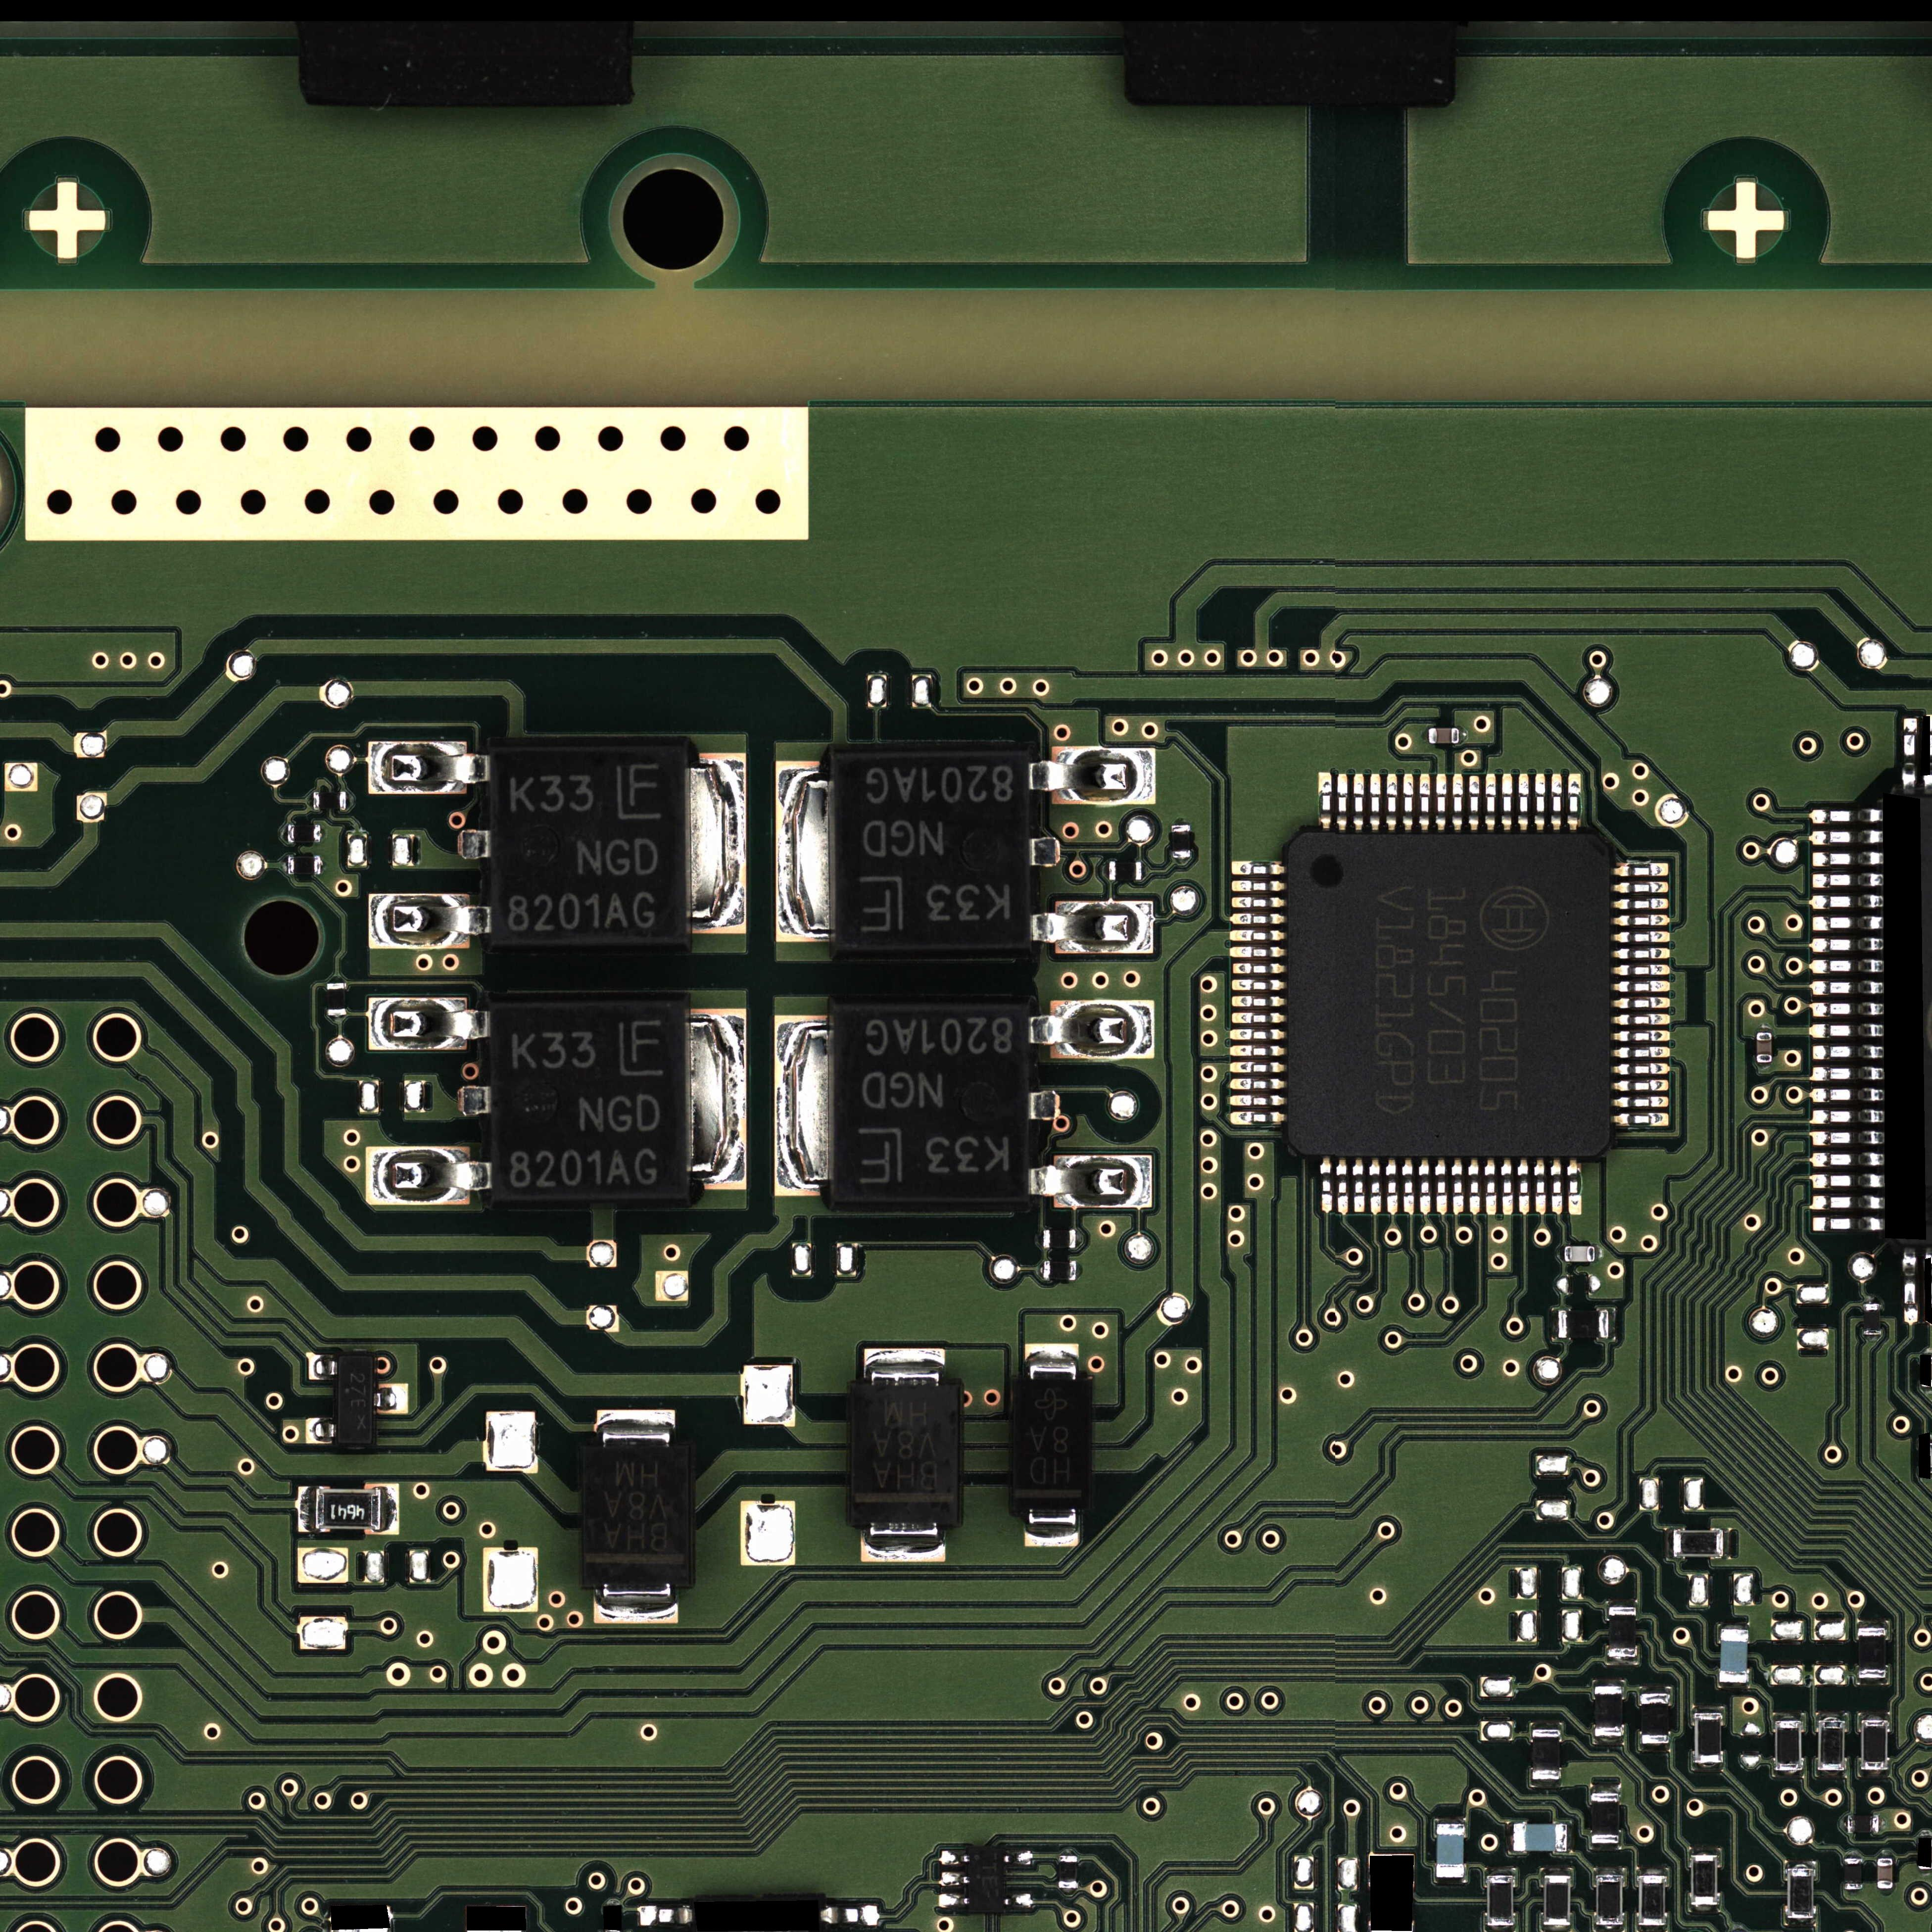Package: (1286, 833, 1612, 1157), (492, 747, 686, 943), (833, 1005, 1026, 1201), (492, 1007, 686, 1200), (833, 755, 1030, 947), (847, 1382, 962, 1523), (579, 1444, 692, 1585), (1012, 1378, 1090, 1509), (338, 1353, 373, 1447), (315, 1490, 380, 1530), (968, 1847, 1005, 1913), (1514, 1824, 1568, 1852), (1720, 1629, 1748, 1683), (1640, 1693, 1668, 1744), (1437, 1824, 1463, 1877), (1532, 1730, 1560, 1780), (1591, 1794, 1619, 1844), (1858, 1628, 1886, 1677), (1559, 1309, 1608, 1338), (1594, 1686, 1622, 1736), (1608, 1608, 1637, 1656), (1861, 1720, 1888, 1769), (1674, 1530, 1723, 1557), (1819, 1720, 1844, 1771), (1695, 1714, 1721, 1762), (1691, 1856, 1716, 1905), (1789, 1868, 1813, 1918), (1640, 1875, 1665, 1925), (1545, 1875, 1569, 1925), (1488, 1875, 1513, 1925), (1598, 1875, 1622, 1925), (1776, 1721, 1801, 1769), (1108, 862, 1143, 881), (313, 791, 347, 810), (1171, 824, 1191, 858), (1044, 1230, 1076, 1249), (1058, 1856, 1077, 1888), (288, 856, 322, 874), (287, 824, 320, 842), (1863, 1304, 1881, 1336), (1847, 1815, 1879, 1833), (1044, 1261, 1076, 1279), (1845, 1858, 1861, 1890), (1564, 1246, 1594, 1261), (1757, 1033, 1773, 1063), (1877, 1858, 1893, 1888), (1430, 727, 1458, 743)
Solder: (686, 750, 747, 934), (686, 1008, 747, 1191), (773, 1016, 830, 1196), (775, 761, 830, 941), (366, 1146, 492, 1205), (1028, 1000, 1154, 1058), (1030, 747, 1155, 803), (370, 893, 492, 948), (368, 741, 492, 794), (1028, 1155, 1152, 1208), (368, 998, 490, 1051), (1031, 901, 1154, 954), (594, 1587, 679, 1624), (862, 1525, 947, 1562), (863, 1348, 945, 1382), (596, 1408, 676, 1442), (1024, 1509, 1079, 1546), (1024, 1343, 1079, 1378), (1902, 1247, 1918, 1323), (1902, 717, 1918, 793), (1812, 1152, 1886, 1168), (1812, 1131, 1886, 1146), (1812, 1046, 1886, 1062), (1810, 938, 1884, 954), (1810, 916, 1884, 932), (1810, 895, 1884, 911), (1813, 1215, 1886, 1231), (1813, 1194, 1886, 1210), (1812, 1109, 1884, 1125), (1812, 1024, 1884, 1040), (1812, 1001, 1884, 1017), (1812, 809, 1884, 824), (1812, 830, 1884, 846), (821, 1905, 878, 1925), (1026, 1090, 1060, 1122), (373, 1384, 409, 1414), (1812, 1173, 1886, 1187), (1810, 1067, 1884, 1081), (1810, 961, 1884, 975), (639, 1905, 692, 1925), (1812, 1088, 1884, 1102), (1812, 982, 1884, 996), (1812, 853, 1884, 867), (1812, 874, 1884, 888), (458, 1086, 492, 1116), (456, 830, 492, 858), (1030, 837, 1060, 867), (1568, 773, 1582, 832), (1612, 931, 1670, 945), (1610, 1113, 1668, 1127), (1612, 996, 1670, 1010), (297, 1486, 315, 1532), (1368, 1852, 1414, 1870), (1230, 1077, 1286, 1092), (1230, 1044, 1286, 1058), (1230, 1111, 1286, 1125), (1451, 775, 1465, 832), (1500, 1159, 1514, 1215), (306, 1417, 336, 1444), (382, 1484, 398, 1534), (1230, 929, 1284, 943), (1231, 978, 1286, 993), (1614, 863, 1668, 878), (1231, 862, 1284, 876), (1231, 879, 1284, 893), (1610, 1063, 1670, 1076), (1320, 771, 1332, 830), (1352, 773, 1364, 832), (1401, 773, 1414, 832), (1385, 773, 1398, 832), (1419, 773, 1431, 832), (1369, 773, 1382, 832), (1550, 773, 1562, 832), (1534, 773, 1546, 832), (1518, 773, 1530, 832), (1500, 773, 1513, 832), (1484, 773, 1497, 832), (1612, 1030, 1670, 1042), (1612, 1046, 1670, 1058), (1612, 1014, 1670, 1026), (1610, 1095, 1668, 1108), (1610, 1079, 1668, 1092), (1612, 980, 1670, 993), (1612, 964, 1670, 977), (308, 1355, 336, 1380), (1336, 773, 1348, 830), (1230, 1062, 1286, 1074), (1230, 1095, 1286, 1108), (1230, 1028, 1286, 1040), (1614, 948, 1670, 961), (1468, 775, 1481, 832), (1435, 775, 1447, 832), (1550, 1159, 1562, 1215), (1534, 1159, 1546, 1215), (1518, 1159, 1530, 1215), (1568, 1159, 1580, 1215), (1484, 1159, 1497, 1215), (1435, 1159, 1447, 1215), (1230, 947, 1284, 959), (1231, 1012, 1286, 1024), (1231, 996, 1286, 1008), (1231, 962, 1286, 975), (1419, 1161, 1431, 1215), (1403, 1161, 1415, 1215), (1385, 1161, 1398, 1215), (1369, 1161, 1382, 1215), (1614, 881, 1668, 893), (1614, 899, 1668, 911), (1614, 915, 1668, 927), (1453, 1159, 1465, 1214), (1468, 1161, 1481, 1215), (1231, 897, 1284, 909), (1231, 913, 1284, 925), (1338, 1159, 1348, 1215), (1353, 1159, 1364, 1214), (1322, 1159, 1332, 1214), (938, 1893, 970, 1907), (1003, 1851, 1033, 1865), (1003, 1893, 1033, 1907), (939, 1872, 968, 1886), (941, 1851, 970, 1865), (1594, 1865, 1624, 1875), (1787, 1858, 1815, 1868), (1665, 1527, 1674, 1559), (1506, 1822, 1514, 1854), (1594, 1736, 1624, 1744), (1638, 1867, 1667, 1875), (1690, 1845, 1718, 1854), (1543, 1867, 1571, 1875), (1775, 1713, 1803, 1721), (1486, 1867, 1514, 1875), (1608, 1307, 1615, 1341), (1552, 1307, 1559, 1341), (1693, 1764, 1723, 1771), (1640, 1686, 1670, 1693), (1435, 1877, 1465, 1884), (1693, 1706, 1723, 1713), (1566, 1822, 1573, 1852), (1723, 1529, 1730, 1559), (1858, 1621, 1886, 1628), (1691, 1905, 1720, 1913), (1532, 1780, 1560, 1787), (1594, 1679, 1622, 1686), (1543, 1925, 1571, 1932), (1640, 1744, 1668, 1752), (1638, 1925, 1667, 1932), (1591, 1785, 1619, 1792), (1437, 1817, 1465, 1824), (1861, 1713, 1888, 1720), (1819, 1713, 1845, 1720), (1787, 1918, 1813, 1925), (1486, 1925, 1513, 1932), (1596, 1925, 1622, 1932), (1861, 1769, 1888, 1776), (1168, 817, 1192, 824), (1819, 1769, 1844, 1776), (1776, 1769, 1801, 1776), (1058, 1847, 1077, 1856), (603, 1898, 623, 1907), (1718, 1683, 1750, 1688), (1169, 856, 1192, 863), (1718, 1624, 1748, 1629), (1606, 1658, 1637, 1663), (1858, 1679, 1886, 1684), (1608, 1601, 1637, 1606), (1532, 1723, 1560, 1729), (1592, 1844, 1619, 1849), (347, 791, 354, 810), (281, 855, 288, 874), (1100, 862, 1108, 881), (320, 824, 327, 842), (322, 856, 329, 874), (280, 824, 287, 842), (1060, 1890, 1077, 1897), (308, 791, 313, 810), (1143, 862, 1148, 881), (1865, 1297, 1879, 1304), (327, 977, 345, 982), (1039, 1261, 1044, 1279), (1076, 1230, 1081, 1247), (1037, 1231, 1042, 1247), (1076, 1263, 1081, 1279), (1594, 1246, 1599, 1261), (1842, 1815, 1847, 1831), (1845, 1890, 1861, 1895), (1560, 1246, 1566, 1260), (1879, 1817, 1884, 1831), (1845, 1852, 1859, 1858), (1424, 729, 1430, 741), (1460, 729, 1465, 741), (1759, 1062, 1771, 1067), (1759, 1028, 1771, 1033), (1879, 1852, 1891, 1858), (1865, 1336, 1881, 1339), (1879, 1890, 1891, 1893)
